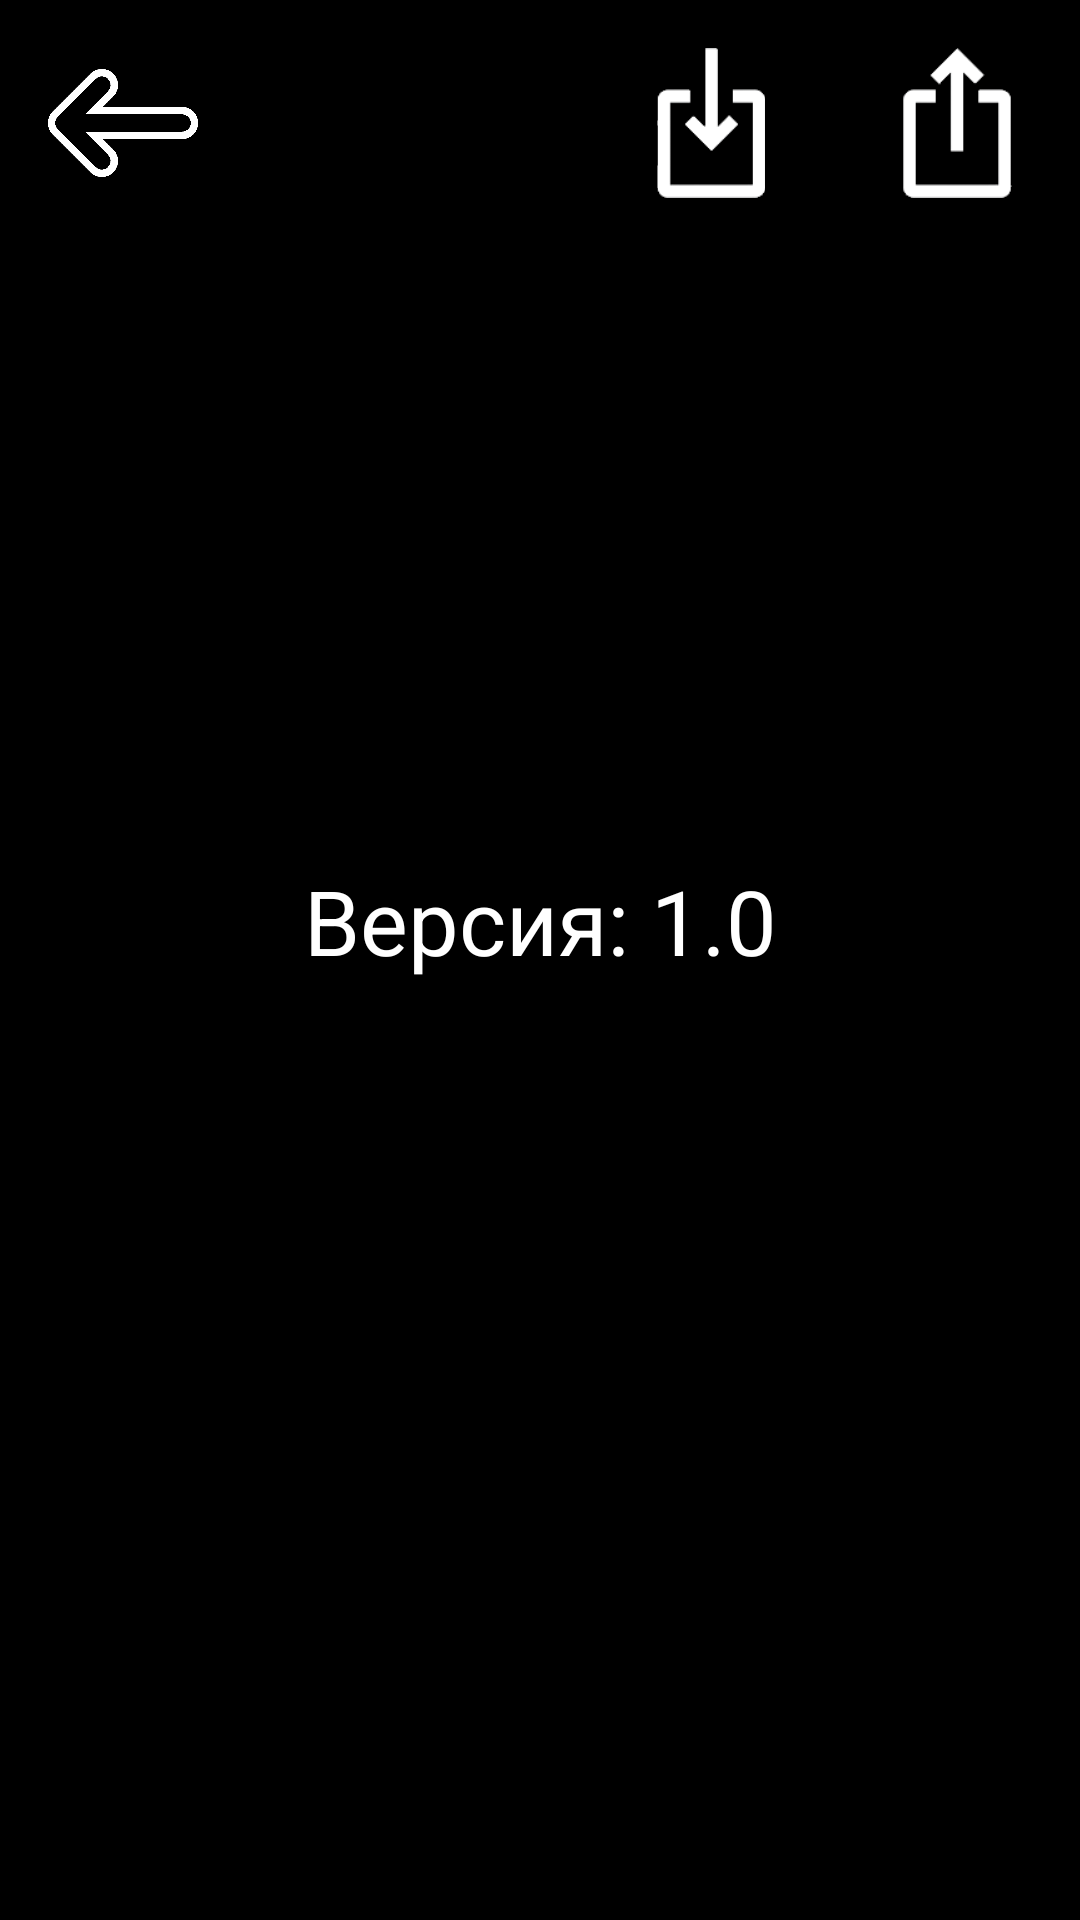

Where to tap for icons on this 1080px x 1920px app screen, as [x,y]:
back: [123,123]
